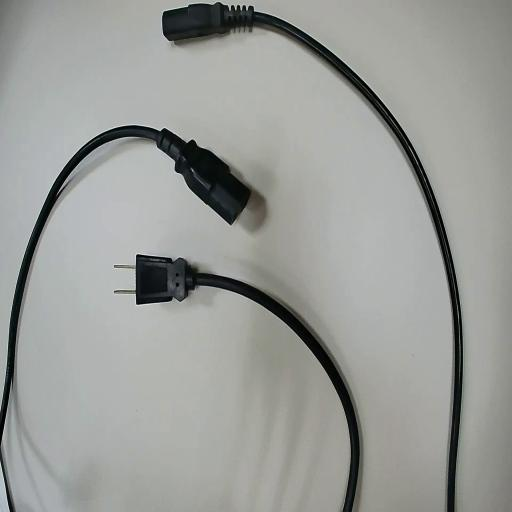wire: (163, 4, 461, 511), (0, 126, 251, 438), (133, 253, 363, 507)
